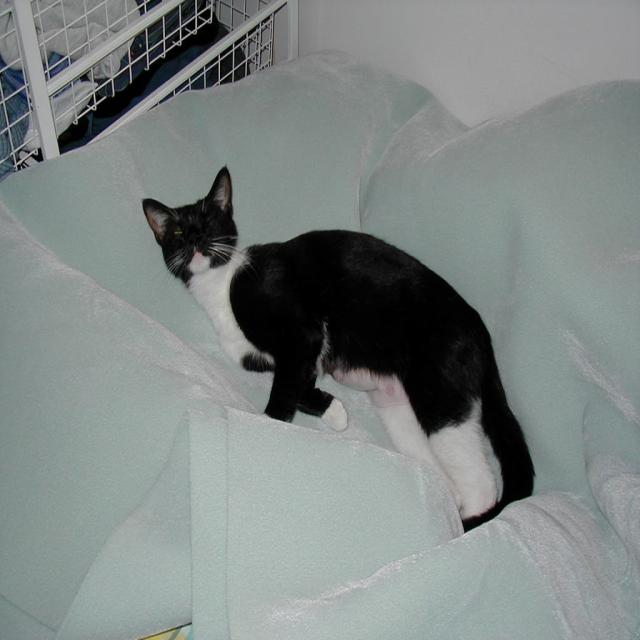Cat: (141, 167, 535, 534)
